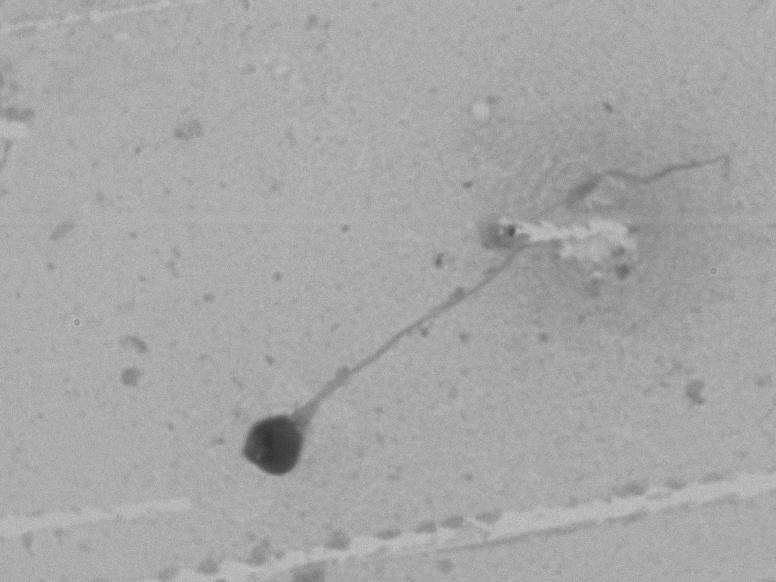Abnormal: (209, 172, 551, 490)
